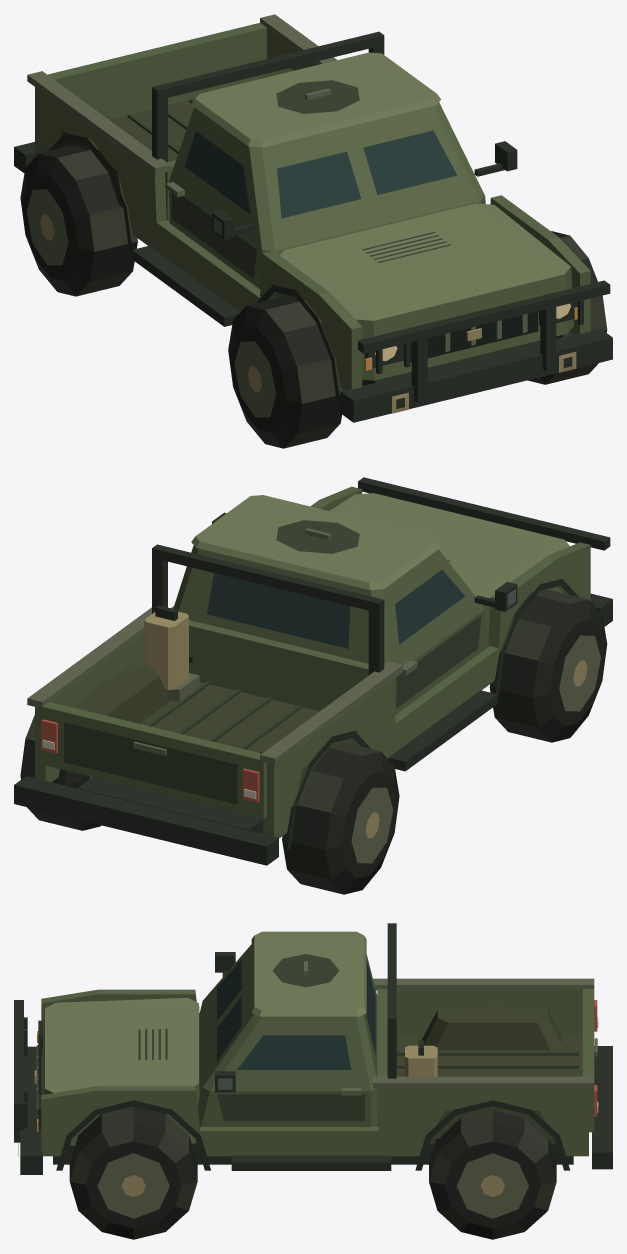
File: player.obj
The picture shows the model from 3 angles, top to bottom: view 1: azimuth 30°, elevation 25°; view 2: azimuth 150°, elevation 25°; view 3: azimuth 270°, elevation 25°; orthographic projection. The views are drawn at different scales.
Visible parts, largest first — view 1: PICKUP_BODY, WHEEL_FRONT_LEFT, WHEEL_REAR_LEFT, WHEEL_FRONT_RIGHT; view 2: PICKUP_BODY, WHEEL_FRONT_LEFT, WHEEL_REAR_LEFT, WHEEL_REAR_RIGHT; view 3: PICKUP_BODY, WHEEL_FRONT_RIGHT, WHEEL_REAR_RIGHT.
Part boxes in pixels (x1,y1,x2,y2): PICKUP_BODY: [14, 14, 612, 422]; WHEEL_FRONT_LEFT: [228, 295, 344, 448]; WHEEL_REAR_LEFT: [20, 145, 137, 296]; WHEEL_FRONT_RIGHT: [527, 231, 607, 384]; PICKUP_BODY: [14, 477, 612, 865]; WHEEL_FRONT_LEFT: [489, 589, 607, 742]; WHEEL_REAR_LEFT: [282, 743, 399, 894]; WHEEL_REAR_RIGHT: [20, 715, 101, 830]; PICKUP_BODY: [14, 923, 612, 1174]; WHEEL_FRONT_RIGHT: [69, 1106, 197, 1239]; WHEEL_REAR_RIGHT: [429, 1110, 556, 1239].
Size of the model in its own units: 3.58 by 2.54 by 6.61.
1 material, 1 textured.
